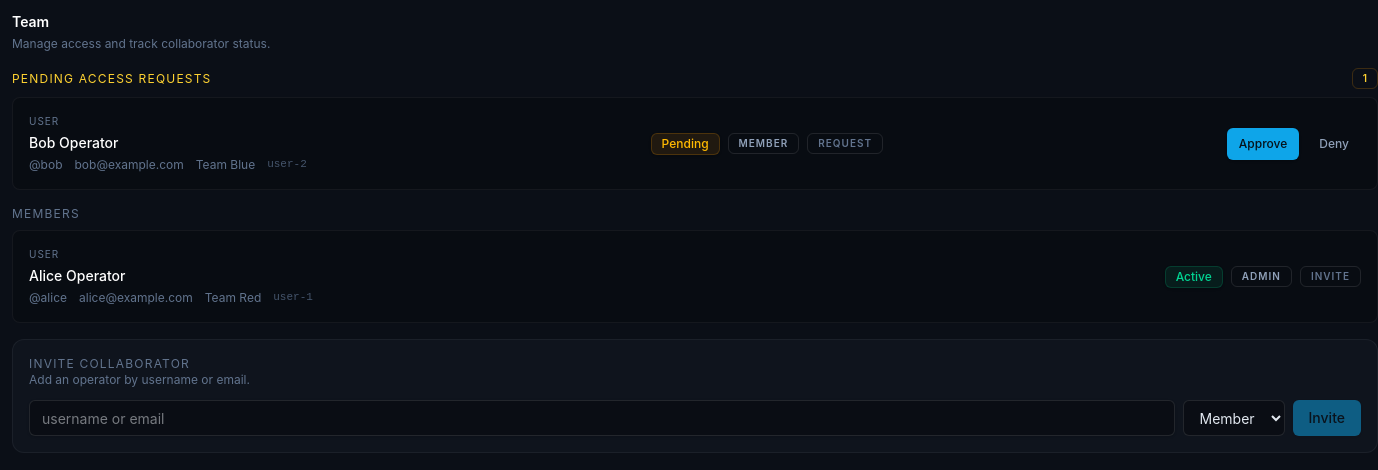
Test: ProjectTeamPanel › surfaces pending access requests separately and lets an admin approve them
The width and height of the screenshot is (1378, 470).
Expected: the text "Bob Operator" is shown, [29,134,118,151]
Click the button "Approve". click: (1263,144)
box: [1227,128,1299,160]
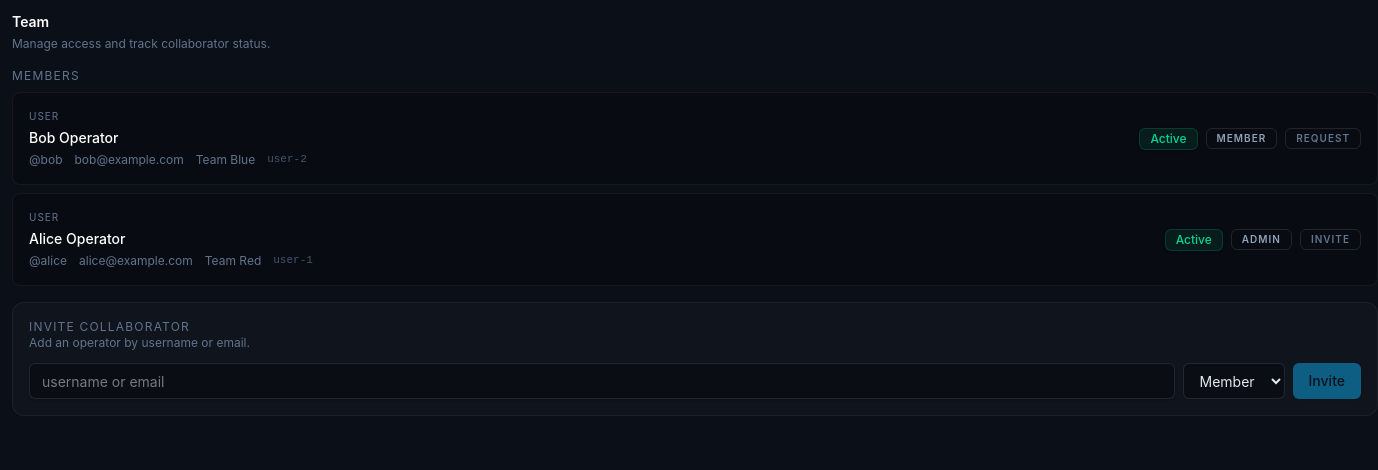
Now the heading "Pending access requests" is gone
